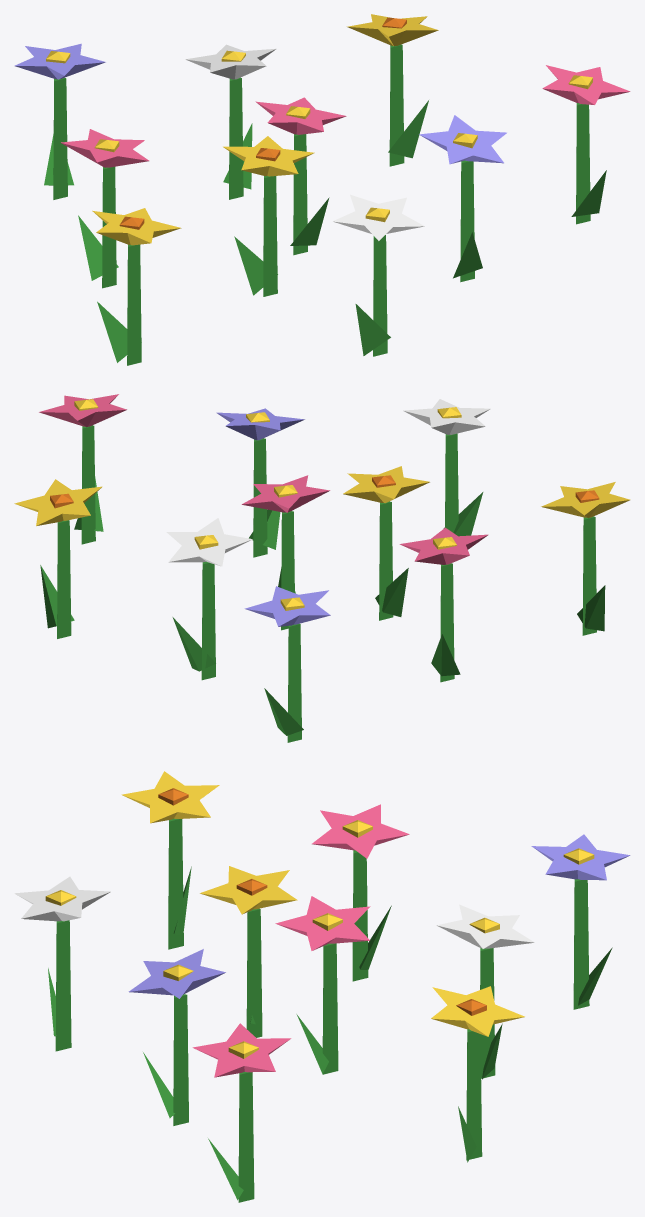
Rendered from flowerPatch.glb.
3 renders of one model, top to bottom at view 1: azimuth 30°, elevation 25°; view 2: azimuth 150°, elevation 25°; view 3: azimuth 270°, elevation 25°, orthographic. The views are drawn at different scales.
Visible parts, largest first — view 1: flowerPatch-m; view 2: flowerPatch-m; view 3: flowerPatch-m.
Boxes of the visible parts, x1,y1,x2,y2 form: flowerPatch-m: (14, 14, 630, 365); flowerPatch-m: (14, 394, 630, 742); flowerPatch-m: (14, 771, 630, 1202).
Size of the model in its own units: 1.97 by 0.4921 by 1.75.
